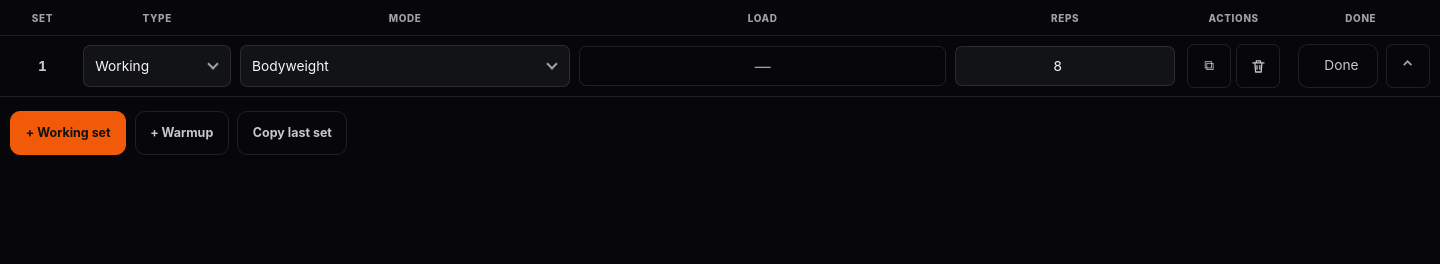
WorkoutSetList › shows Assisted only when the exercise explicitly supports measurable assistance
Click the dropdown named "Set 1 bodyweight mode".
click(290, 66)  # box x1=240 y1=45 x2=570 y2=87
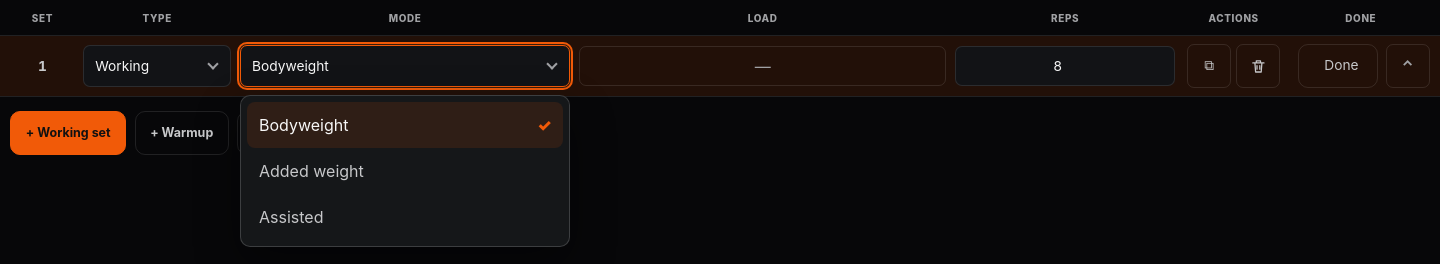
Expected: the option "Bodyweight ✓" is shown, x1=247 y1=102 x2=563 y2=148
Expected: the option "Added weight" is shown, x1=247 y1=148 x2=563 y2=194
Expected: the option "Assisted" is shown, x1=247 y1=194 x2=563 y2=240
